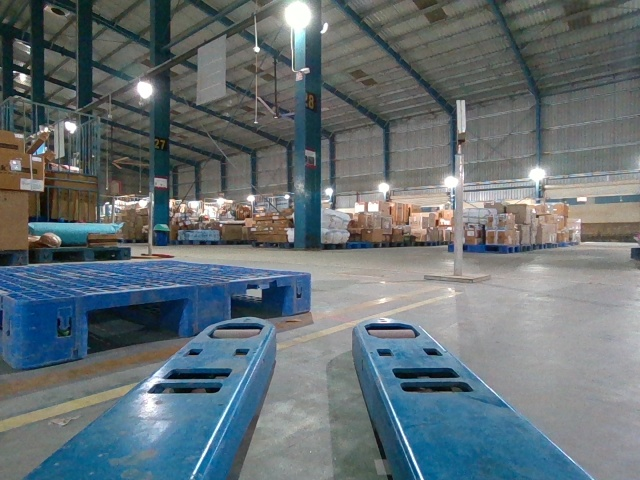block: (19, 296, 88, 371), (189, 282, 231, 336), (288, 274, 314, 314)
front: (20, 273, 311, 368)
hole pallet: (89, 299, 189, 354), (231, 286, 287, 319)
